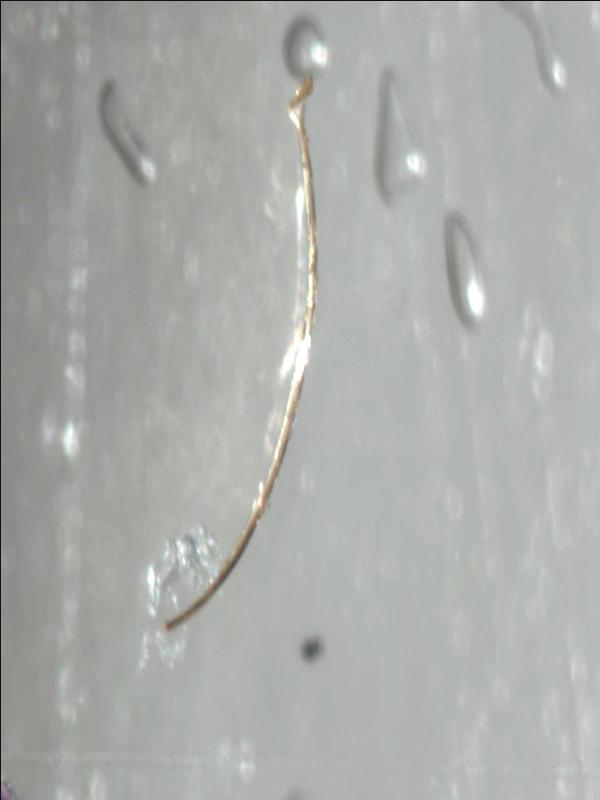microplastic: (158, 72, 319, 636)
